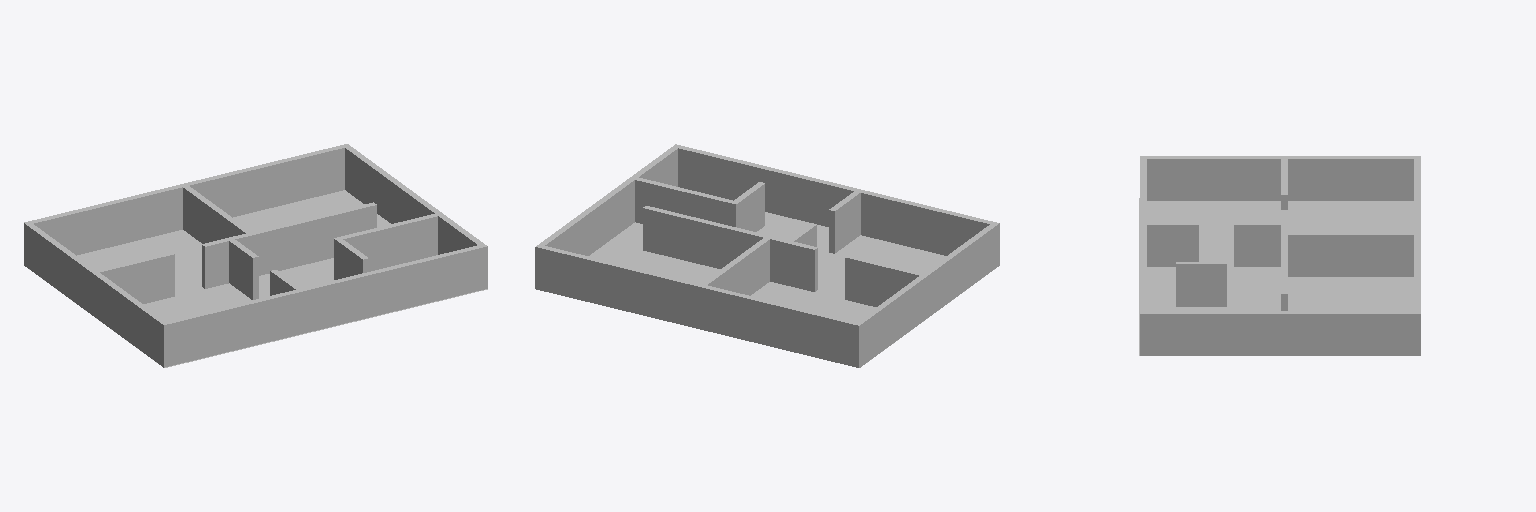
File: room with tekxture.obj
The picture shows the model from 3 angles: view 1: azimuth 30°, elevation 25°; view 2: azimuth 150°, elevation 25°; view 3: azimuth 270°, elevation 25°; orthographic projection.
Parts seen in each view (by area): view 1: Plane_Plane.002; view 2: Plane_Plane.002; view 3: Plane_Plane.002.
Boxes of the visible parts, x1=… form: Plane_Plane.002: x1=24, y1=144, x2=487, y2=367; Plane_Plane.002: x1=535, y1=144, x2=999, y2=367; Plane_Plane.002: x1=1139, y1=156, x2=1420, y2=355.
Size of the model in its own units: 16.01 by 2 by 12.07.